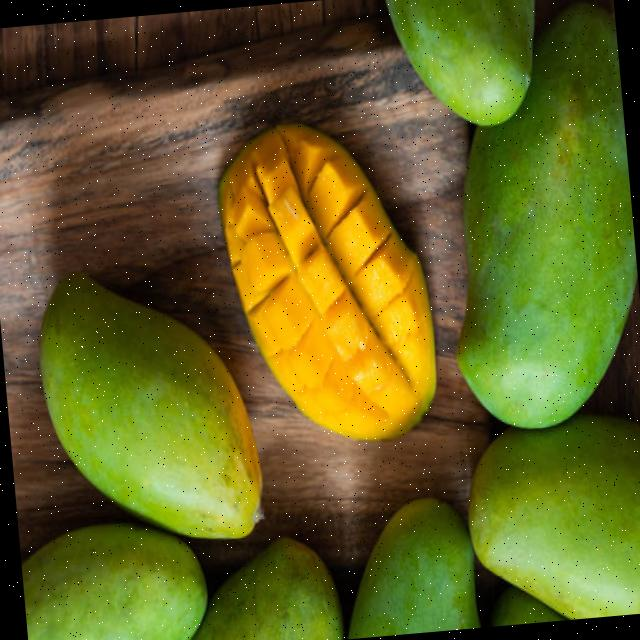mango: (455, 2, 636, 424), (218, 123, 435, 438), (38, 273, 259, 537), (467, 415, 640, 618), (386, 0, 533, 125)
